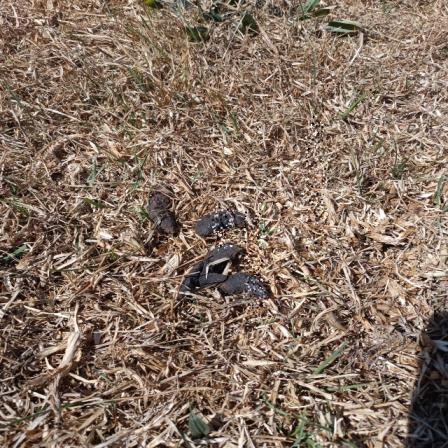dog-poop: (184, 245, 265, 297), (141, 186, 179, 238), (191, 198, 239, 231)
